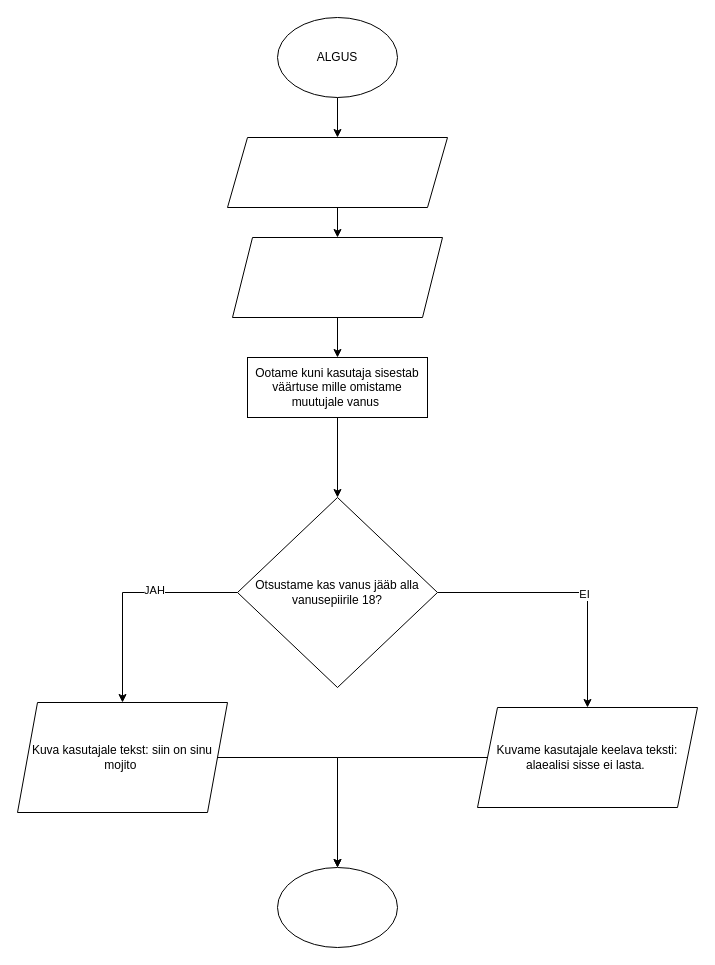
The diagram is 715 pixels wide and 965 high, and some of its shapes have lost their labels. Here are the shapes that lost their labels. From the top down, the centre of each, then its label:
pixel 337 172: Loome täisarvulise muutuja vanus mille algväärtus on 0
pixel 337 277: Kuva kasutaja tekst: kui vana sa oled?
pixel 337 907: LÕPP
